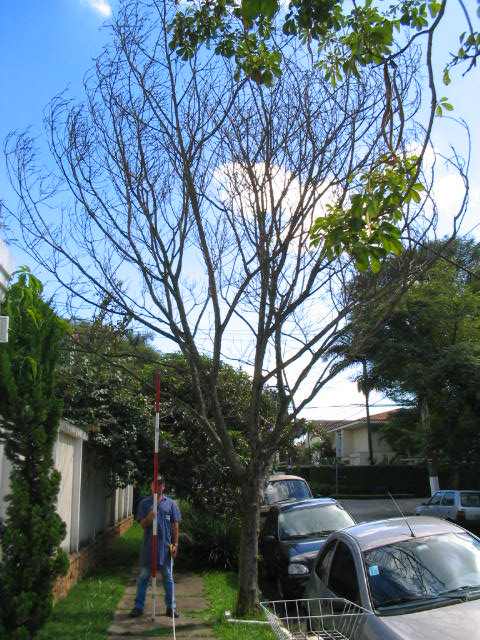stem: (220, 477, 292, 619)
stick: (147, 373, 168, 620)
tree: (5, 1, 471, 620)
